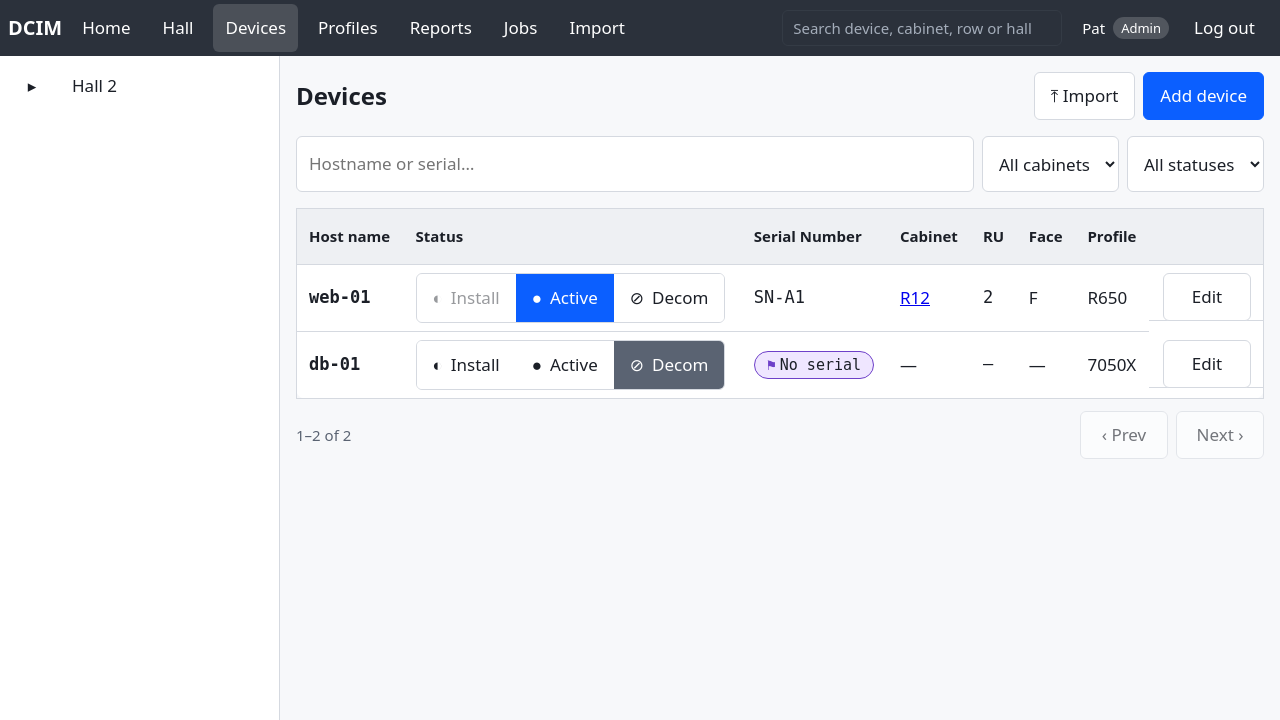
Test case: auth › sends credentials and the in-memory CSRF token from /auth/me on unsafe requests
Expected: the text "web-01" is shown, x1=296 y1=264 x2=404 y2=332
Click the button "Add device": (1204, 96) x1=1143 y1=72 x2=1264 y2=120
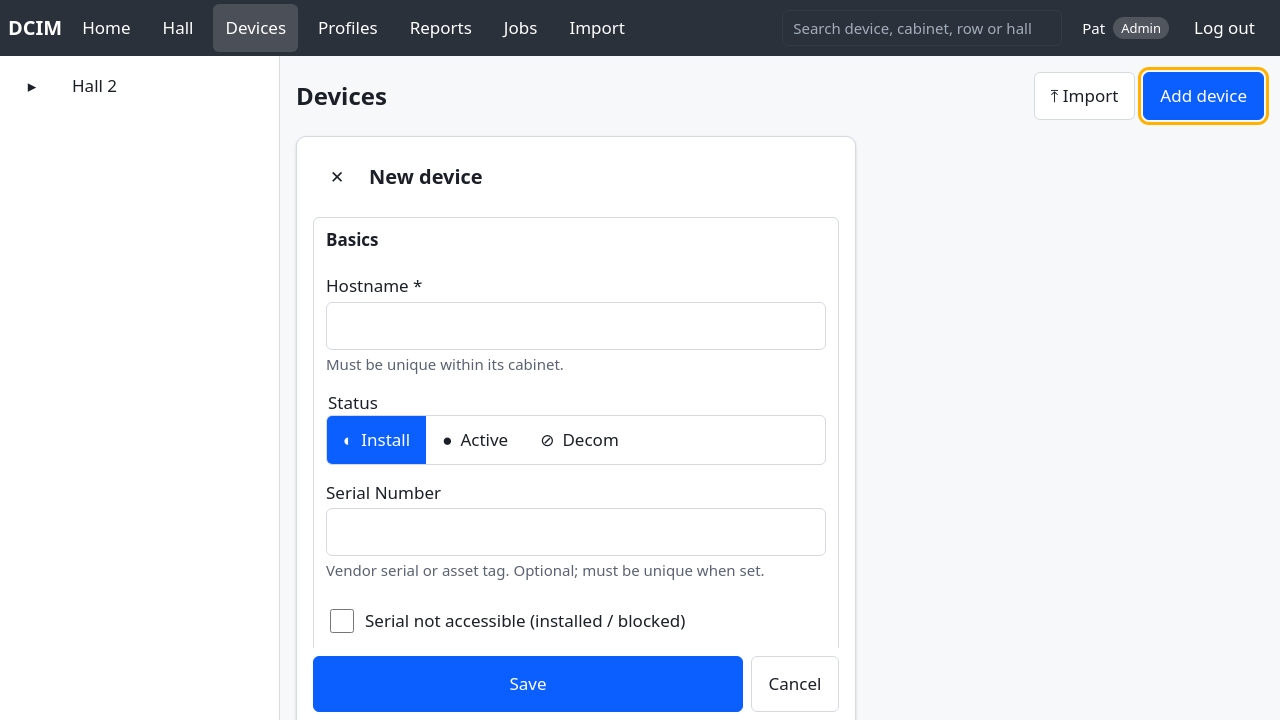
In the field labelled "Hostname": (576, 326) x1=326 y1=302 x2=826 y2=350, type "sw-09"
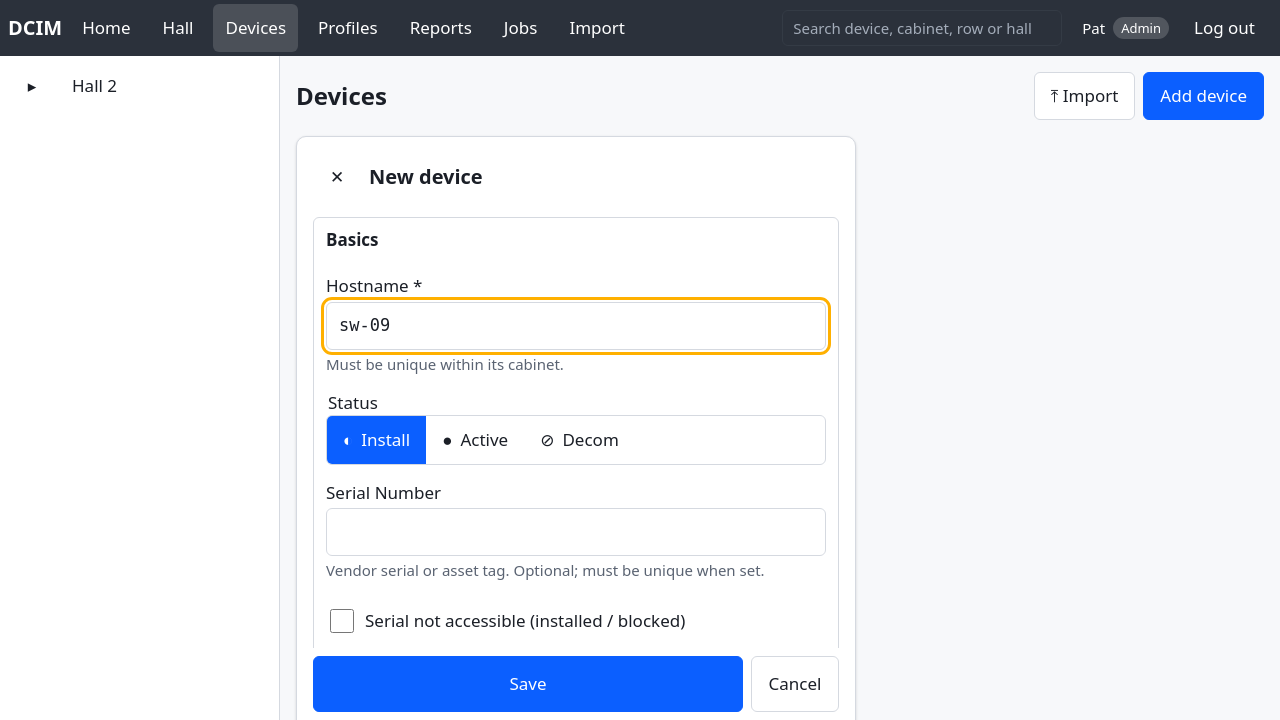
Click the button "Save": (528, 684) x1=313 y1=656 x2=743 y2=712
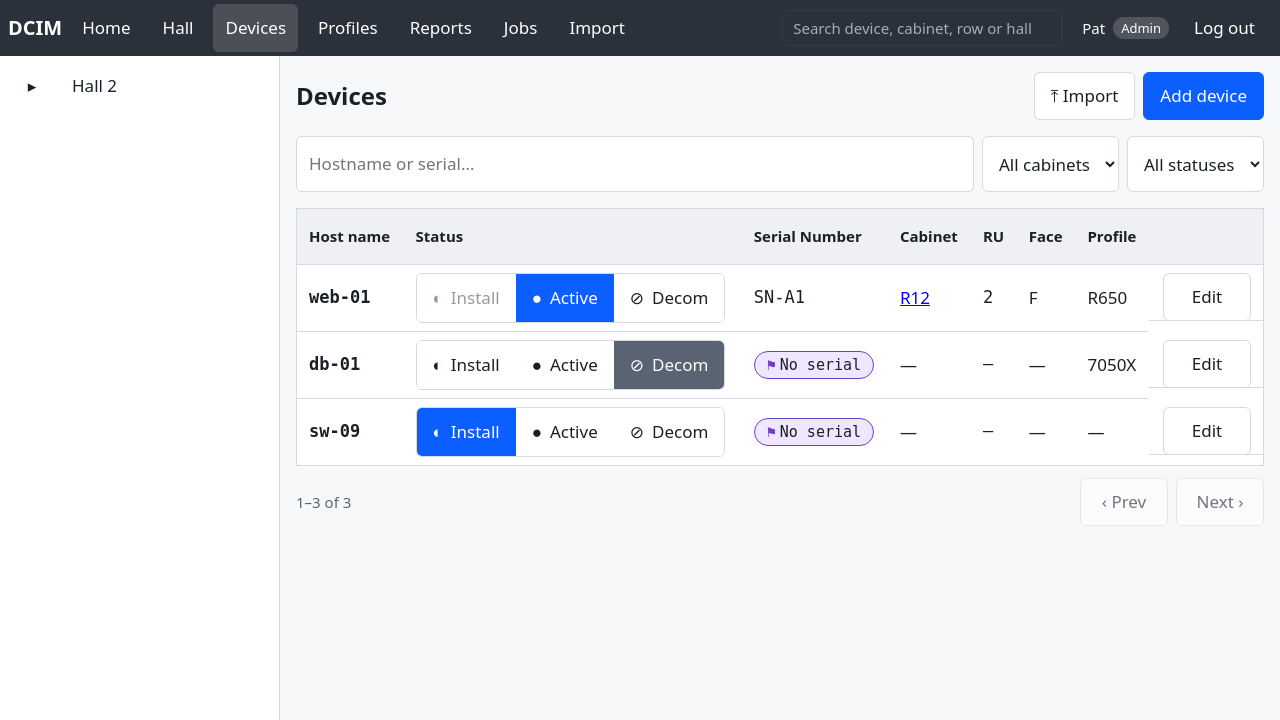
Now the text "sw-09" is shown, box x1=296 y1=398 x2=404 y2=466
